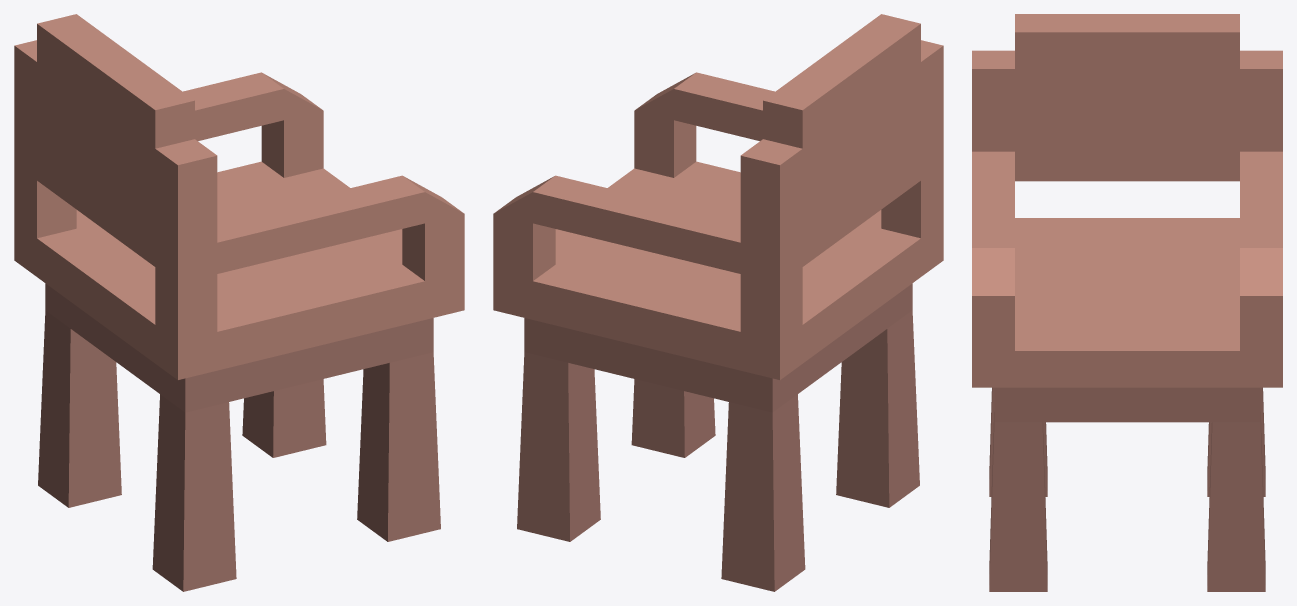
The model's file is ChairHandle.glb.
The picture shows the model from 3 angles, left to right: view 1: azimuth 30°, elevation 25°; view 2: azimuth 150°, elevation 25°; view 3: azimuth 270°, elevation 25°; orthographic projection. The views are drawn at different scales.
Parts seen in each view (by area): view 1: Wood.012, DarkWood.010; view 2: Wood.012, DarkWood.010; view 3: Wood.012, DarkWood.010.
Boxes of the visible parts, x1,y1,x2,y2 form: Wood.012: [14, 14, 464, 379]; DarkWood.010: [38, 283, 440, 591]; Wood.012: [493, 14, 943, 379]; DarkWood.010: [517, 283, 919, 591]; Wood.012: [972, 14, 1282, 387]; DarkWood.010: [989, 387, 1265, 591].
Bounding box in the file's own units: 0.4379 × 0.6939 × 0.4326.
